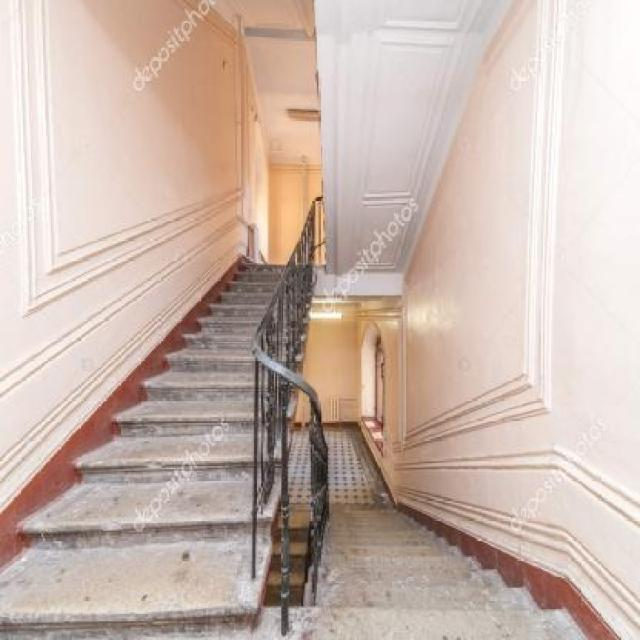stair: (0, 121, 620, 638)
